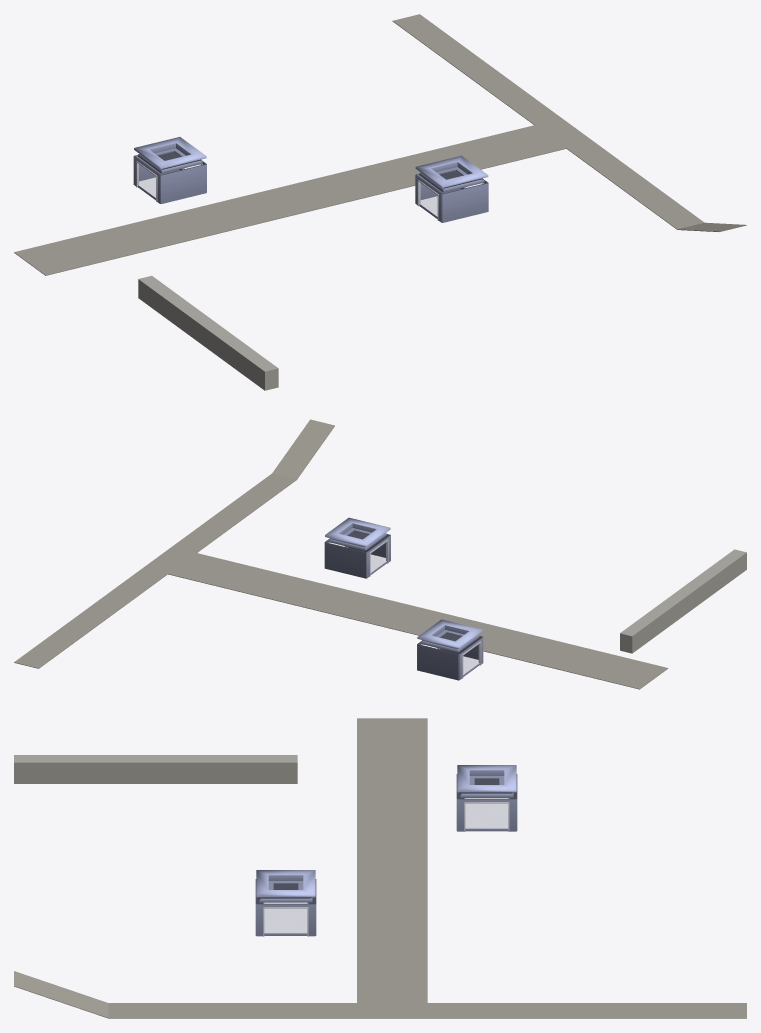
File: town-0-0.glb
3 views of the same model, one above another, from view 1: azimuth 30°, elevation 25°; view 2: azimuth 150°, elevation 25°; view 3: azimuth 270°, elevation 25° (orthographic). The views are drawn at different scales.
Visible parts, largest first — view 1: town-0-0; view 2: town-0-0; view 3: town-0-0.
Boxes of the visible parts, bbox=[...] form: town-0-0: bbox=[14, 14, 746, 390]; town-0-0: bbox=[14, 419, 746, 689]; town-0-0: bbox=[14, 718, 746, 1018].
Size of the model in its own units: 120 by 11.68 by 124.
19 materials, 16 textured.
